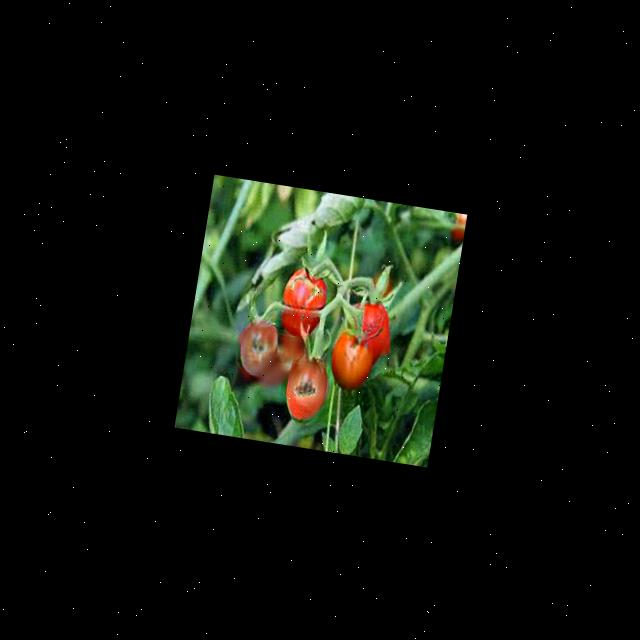tomato: (282, 349, 332, 425), (276, 268, 330, 338), (234, 308, 282, 378)
